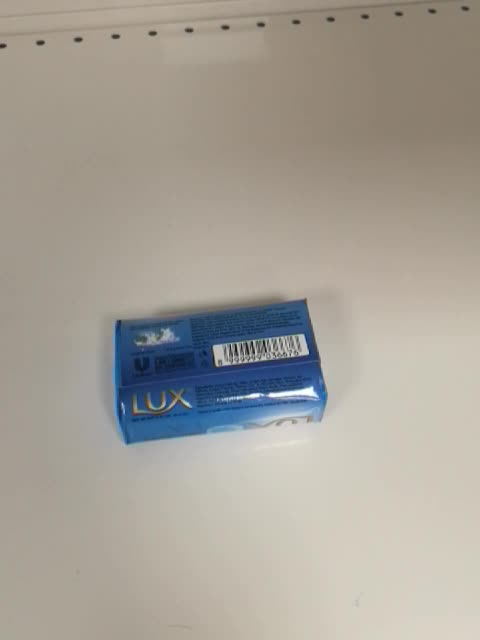soap: (112, 295, 330, 448)
